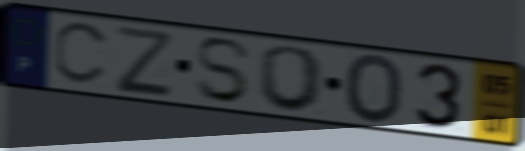3: (410, 61, 469, 132)
C: (51, 21, 114, 89)
O: (255, 43, 329, 115), (343, 52, 406, 127)
S: (193, 35, 256, 106)
Z: (112, 22, 175, 97)
